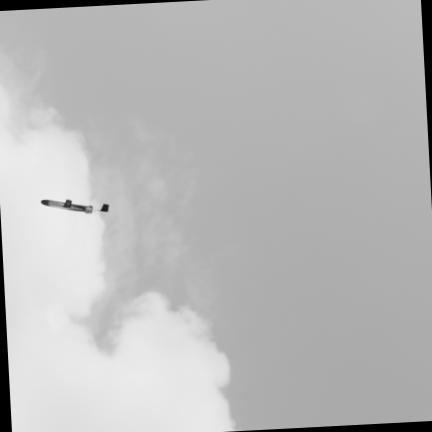Shahed: (41, 199, 108, 213)
